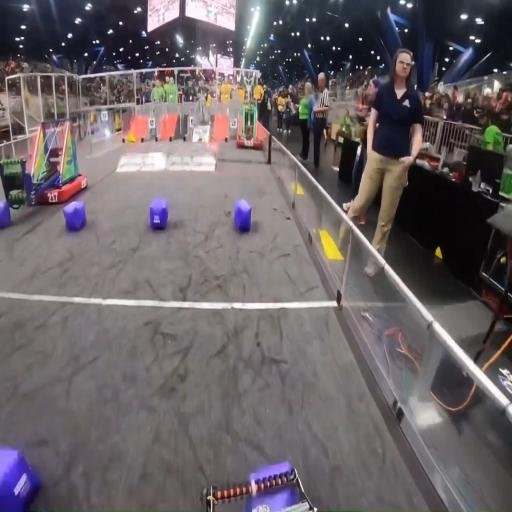robot: (0, 118, 89, 208), (189, 92, 215, 145), (236, 98, 262, 150)
